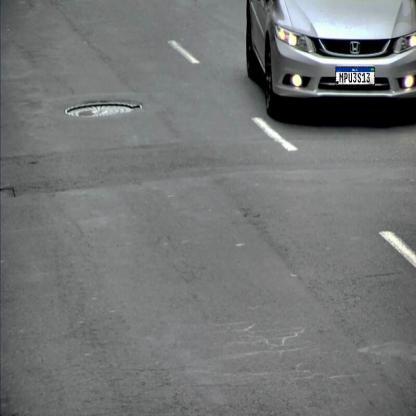PlacaM: (335, 67, 375, 85)
